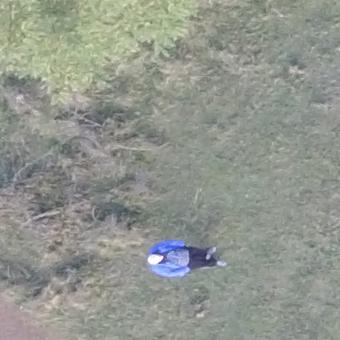human: (144, 238, 228, 277)
